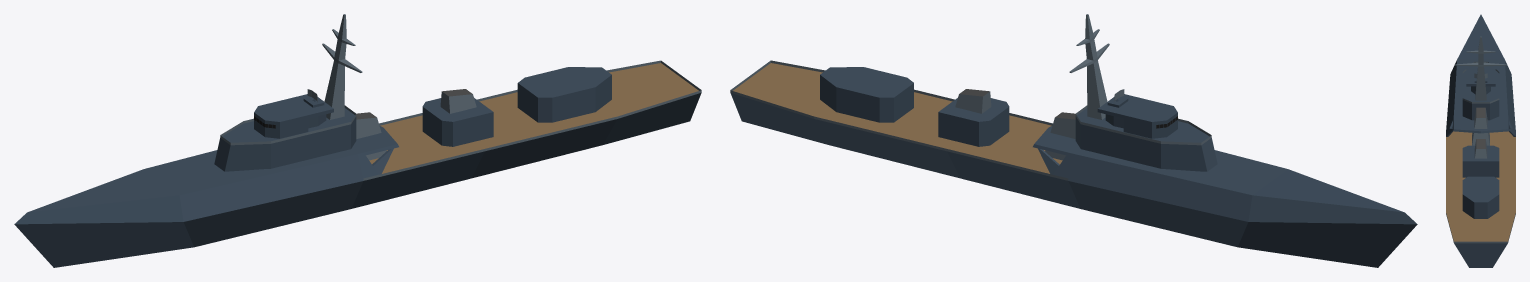
Rendered from ShipDestroyer2.fbx.
The picture shows the model from 3 angles, left to right: view 1: azimuth 30°, elevation 25°; view 2: azimuth 150°, elevation 25°; view 3: azimuth 270°, elevation 25°; orthographic projection. The views are drawn at different scales.
Visible parts, largest first — view 1: Ship_platform, Cube.003, Cube, Cube.001, Barrier, Antena, Cube.002; view 2: Ship_platform, Cube.003, Cube, Cube.001, Barrier, Antena, Cube.002; view 3: Ship_platform, Cube.003, Cube, Antena, Cube.002, Cube.001, Barrier.
Boxes of the visible parts, left/top/right/bottom form: Ship_platform: left=14, top=63, right=701, bottom=267; Cube.003: left=422, top=67, right=611, bottom=146; Cube: left=214, top=108, right=356, bottom=171; Cube.001: left=254, top=94, right=333, bottom=138; Barrier: left=220, top=60, right=701, bottom=180; Antena: left=322, top=14, right=362, bottom=119; Cube.002: left=356, top=89, right=476, bottom=160; Ship_platform: left=730, top=63, right=1417, bottom=267; Cube.003: left=820, top=67, right=1009, bottom=146; Cube: left=1075, top=108, right=1217, bottom=171; Cube.001: left=1097, top=94, right=1177, bottom=138; Barrier: left=730, top=60, right=1211, bottom=180; Antena: left=1069, top=14, right=1109, bottom=119; Cube.002: left=955, top=89, right=1075, bottom=160; Ship_platform: left=1446, top=14, right=1515, bottom=267; Cube.003: left=1462, top=145, right=1499, bottom=218; Cube: left=1462, top=71, right=1499, bottom=120; Antena: left=1455, top=36, right=1506, bottom=100; Cube.002: left=1472, top=107, right=1489, bottom=158; Cube.001: left=1466, top=66, right=1495, bottom=94; Barrier: left=1446, top=61, right=1515, bottom=243.
Size of the model in its own units: 2796 by 731 by 381.
